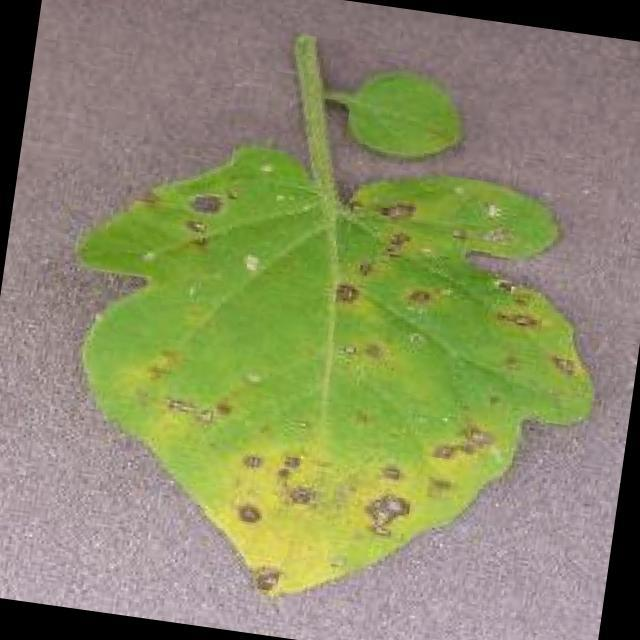Tomato Septoria spot leaf: (37, 125, 623, 640)
